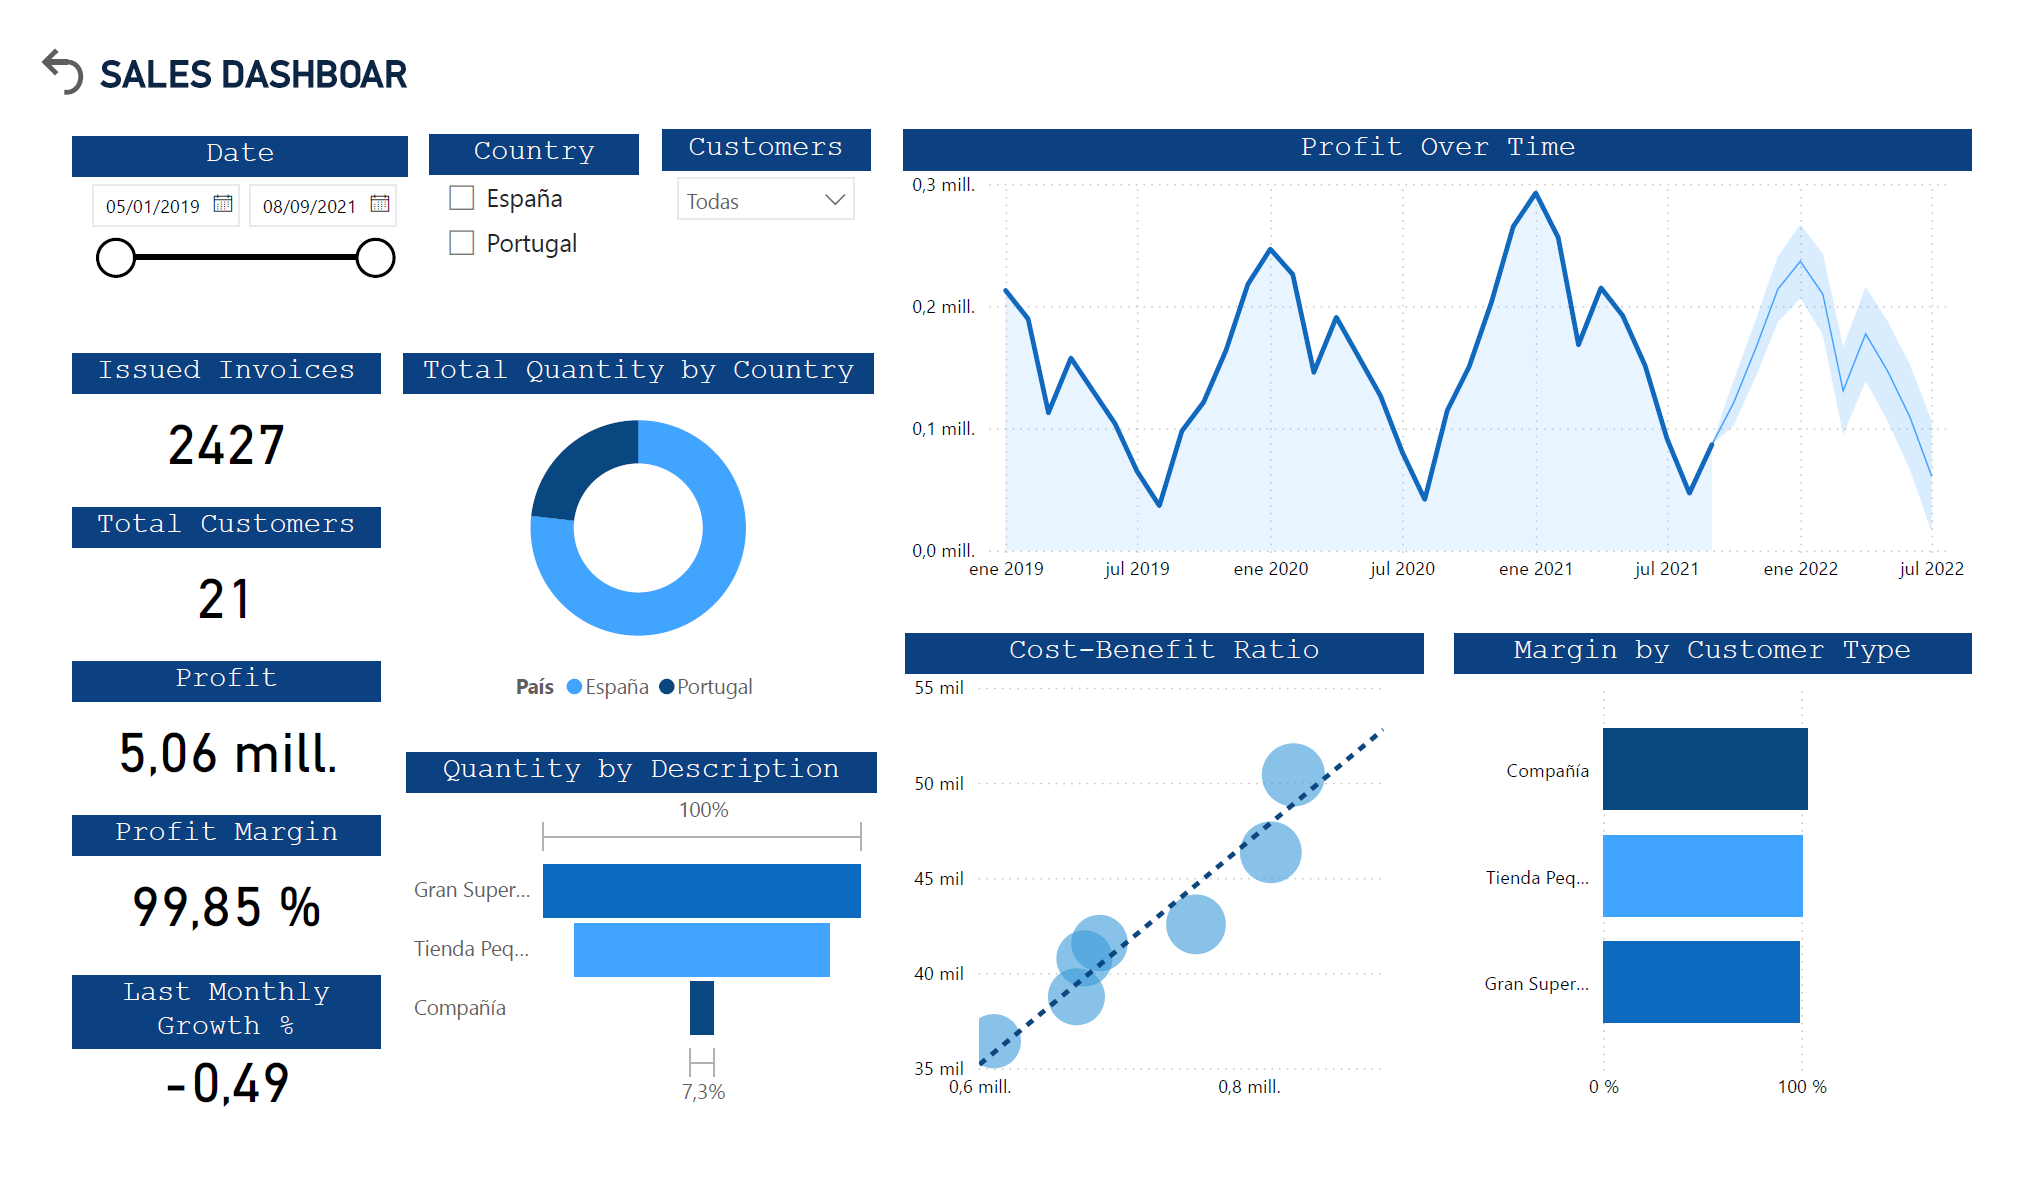

Layout of this report page (visuals, bound fields, positions):
{"tool":"powerbi","page":{"name":"Página 1","canvas":[1280,720],"ordinal":0},"visuals":[{"type":"textbox","box":[18.8,40,496.2,76.2],"z":0},{"type":"card","title":"Issued Invoices","fields":{"Values":["CountNonNull(Fact_Facturas lineas.Factura_key)"]},"box":[19.1,169.6,238.4,102],"z":1000},{"type":"card","title":"Total Customers","fields":{"Values":["CountNonNull(Dim_Clientes.Cliente_key)"]},"box":[19.1,297.9,238.4,102],"z":2000},{"type":"card","title":"Profit","fields":{"Values":["Medidas.Beneficio (medida)"]},"box":[19.1,426.2,238.4,102],"z":3000},{"type":"card","title":"Profit Margin","fields":{"Values":["Medidas.Margen (medida)"]},"box":[20.4,554.6,238.4,102],"z":4000},{"type":"lineChart","title":"Profit Over Time","fields":{"Y":["Medidas.Beneficio (medida)"],"Category":["Dim_Facturas.Fecha.Variación.Jerarquía de fechas.Año","Dim_Facturas.Fecha.Variación.Jerarquía de fechas.Mes"]},"box":[279.2,169.6,306,224.4],"z":5000},{"type":"pieChart","title":"Total Quantity by Country","fields":{"Y":["Sum(Fact_Facturas lineas.Cantidad)"],"Category":["Dim_Clientes.País"]},"box":[606.9,169.6,304.7,224.4],"z":6000},{"type":"barChart","title":"Margin by Customer Type","fields":{"Y":["Medidas.Margen (medida)"],"Category":["Dim_Tipos cliente.Descripcion"]},"box":[933.2,169.6,304.7,224.4],"z":7000},{"type":"pieChart","title":"Quantity by Description","fields":{"Y":["Sum(Fact_Facturas lineas.Cantidad)"],"Category":["Dim_Tipos cliente.Descripcion"]},"box":[279.2,432.2,304.7,224.4],"z":8000},{"type":"columnChart","title":"Profit by Region and Country","fields":{"Y":["Medidas.Beneficio (medida)"],"Category":["Dim_Clientes.Region"],"Series":["Dim_Clientes.País"]},"box":[606,432,305,224],"z":9000},{"type":"scatterChart","title":"Cost-Benefit Ratio","fields":{"X":["Medidas.Beneficio (medida)"],"Size":["Sum(Fact_Facturas lineas.Cantidad)"],"Y":["Sum(Fact_Facturas lineas.Coste ud)"],"Category":["Dim_Facturas.Nombre del día"]},"box":[933,432,305,224],"z":10000},{"type":"slicer","title":"Date","fields":{"Values":["Dim_Facturas.Fecha"]},"box":[488.3,39.5,235.9,107.1],"z":11000},{"type":"slicer","title":"Customers","fields":{"Values":["Dim_Clientes.Nombre"]},"box":[746.5,39.5,234.6,107.1],"z":12000},{"type":"slicer","title":"Country","fields":{"Values":["Dim_Clientes.País"]},"box":[1003.3,39.5,234.6,107.1],"z":13000},{"type":"shape","box":[246.1,168.3,43.3,488.3],"z":14000},{"type":"shape","box":[20.8,403.1,1216.9,23.1],"z":15000},{"type":"actionButton","box":[1240,0,40,40],"z":16000}]}

Visuals, with their boxes in screenshot pixels (x1, y1, x2, y2), scaled from the page's 1280x720 canvas onto the 2036x1178 screenshot:
textbox: (left=30, top=65, right=819, bottom=190)
"Issued Invoices" card: (left=30, top=277, right=410, bottom=444)
"Total Customers" card: (left=30, top=487, right=410, bottom=654)
"Profit" card: (left=30, top=697, right=410, bottom=864)
"Profit Margin" card: (left=32, top=907, right=412, bottom=1074)
"Profit Over Time" lineChart: (left=444, top=277, right=931, bottom=645)
"Total Quantity by Country" pieChart: (left=965, top=277, right=1450, bottom=645)
"Margin by Customer Type" barChart: (left=1484, top=277, right=1969, bottom=645)
"Quantity by Description" pieChart: (left=444, top=707, right=929, bottom=1074)
"Profit by Region and Country" columnChart: (left=964, top=707, right=1449, bottom=1073)
"Cost-Benefit Ratio" scatterChart: (left=1484, top=707, right=1969, bottom=1073)
"Date" slicer: (left=777, top=65, right=1152, bottom=240)
"Customers" slicer: (left=1187, top=65, right=1561, bottom=240)
"Country" slicer: (left=1596, top=65, right=1969, bottom=240)
shape: (left=391, top=275, right=460, bottom=1074)
shape: (left=33, top=660, right=1969, bottom=697)
actionButton: (left=1972, top=0, right=2035, bottom=65)
